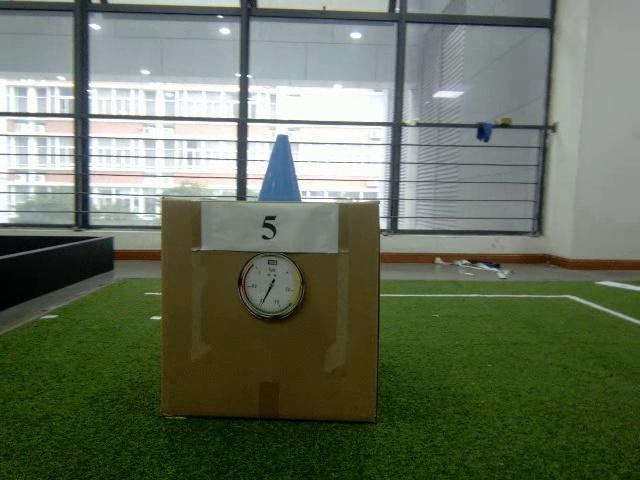5: (259, 212, 279, 243)
Dashboard: (237, 252, 305, 322)
blue_barrel: (256, 133, 303, 203)
ssi: (265, 257, 278, 267)
